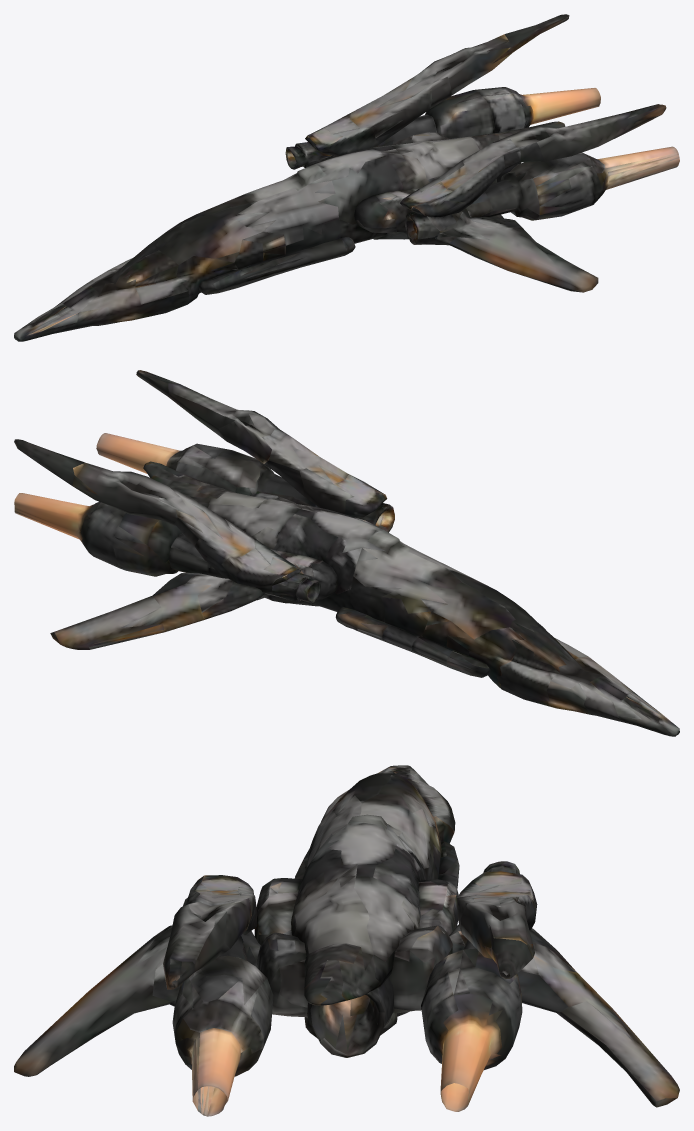
File: runner.glb
The picture shows the model from 3 angles, top to bottom: view 1: azimuth 30°, elevation 25°; view 2: azimuth 150°, elevation 25°; view 3: azimuth 270°, elevation 25°; orthographic projection. The views are drawn at different scales.
Bounding box in the file's own units: 1 × 0.2559 × 0.6152.
Materials: 1 (1 with a texture image).
